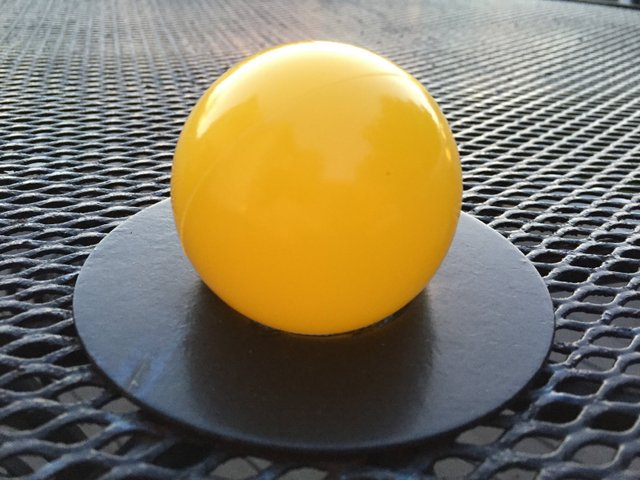Ball: (172, 41, 465, 337)
